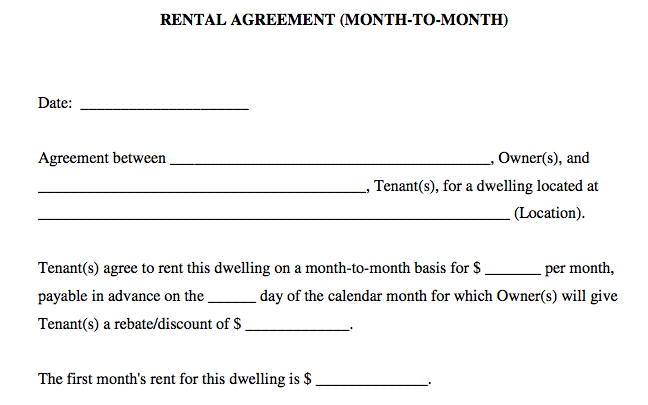textline: (166, 129, 495, 170), (33, 198, 512, 224), (34, 169, 371, 197), (76, 82, 253, 116), (313, 361, 433, 391), (244, 311, 353, 335), (482, 254, 546, 280), (206, 285, 258, 307)
